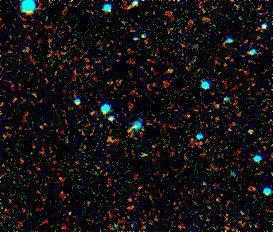star: (238, 116, 268, 146)
